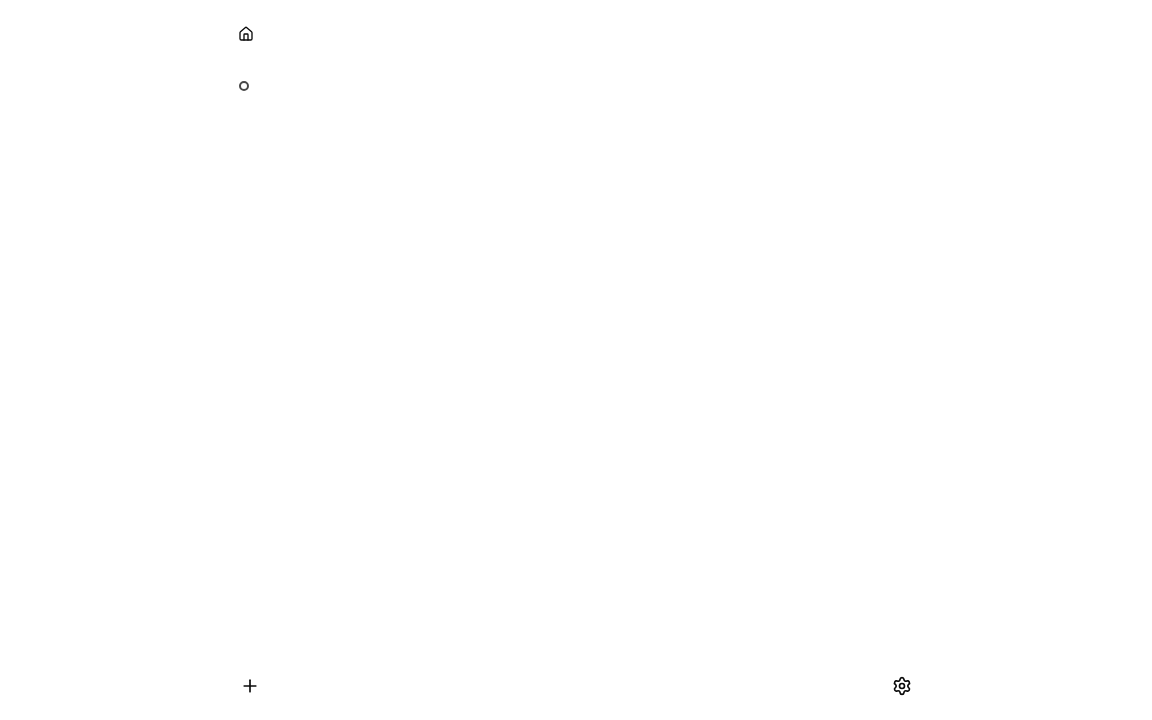
App (integration) › opens the settings dialog from the Settings FAB
The width and height of the screenshot is (1152, 720).
Click the button named "Settings" at (902, 686), box [884,668,920,704]
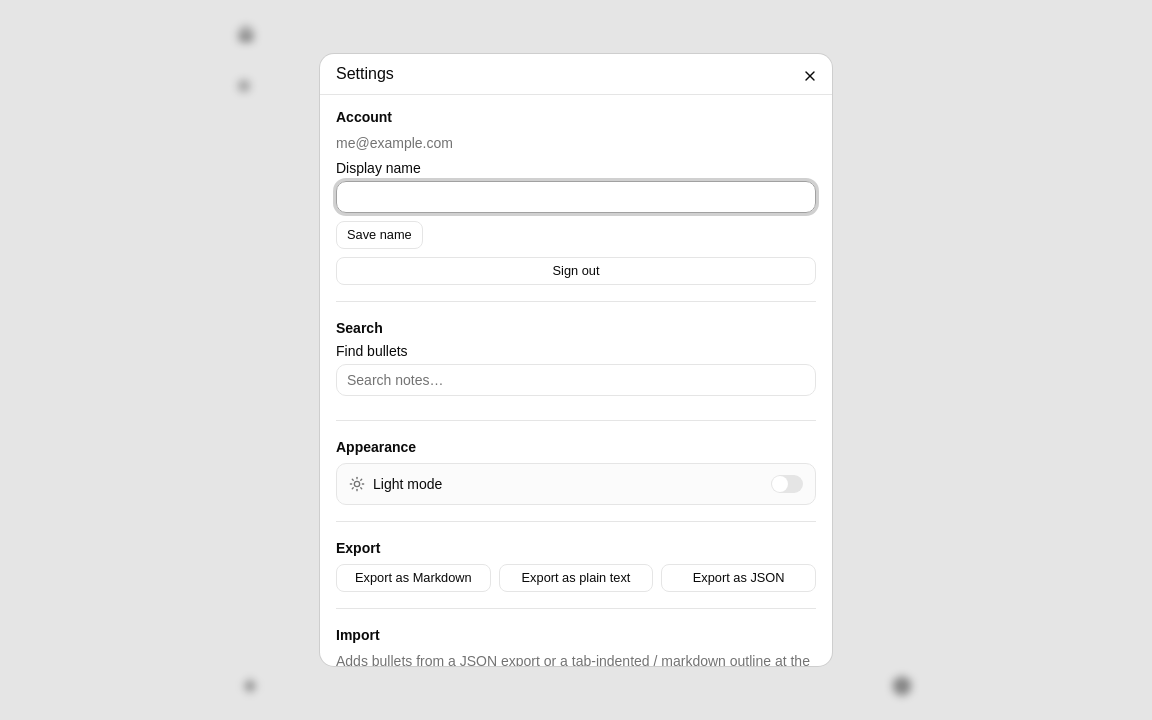
Check: the dialog is shown, box [320,54,832,666]
